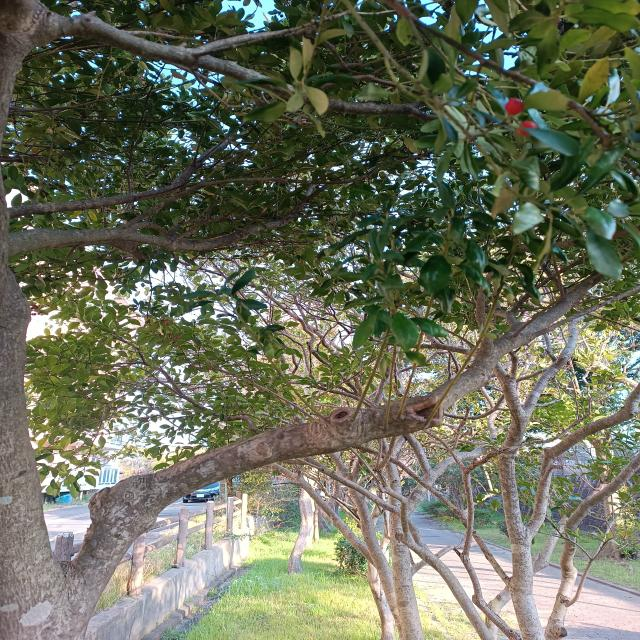Branch: (66, 253, 622, 603)
